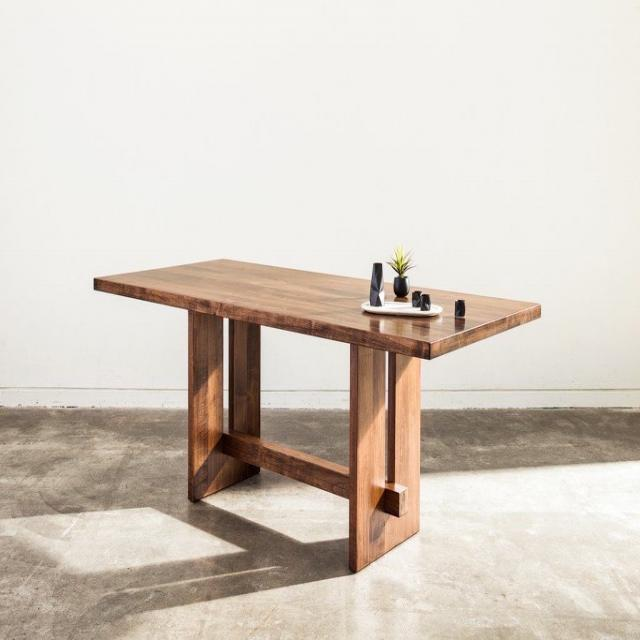table: (83, 224, 543, 585)
